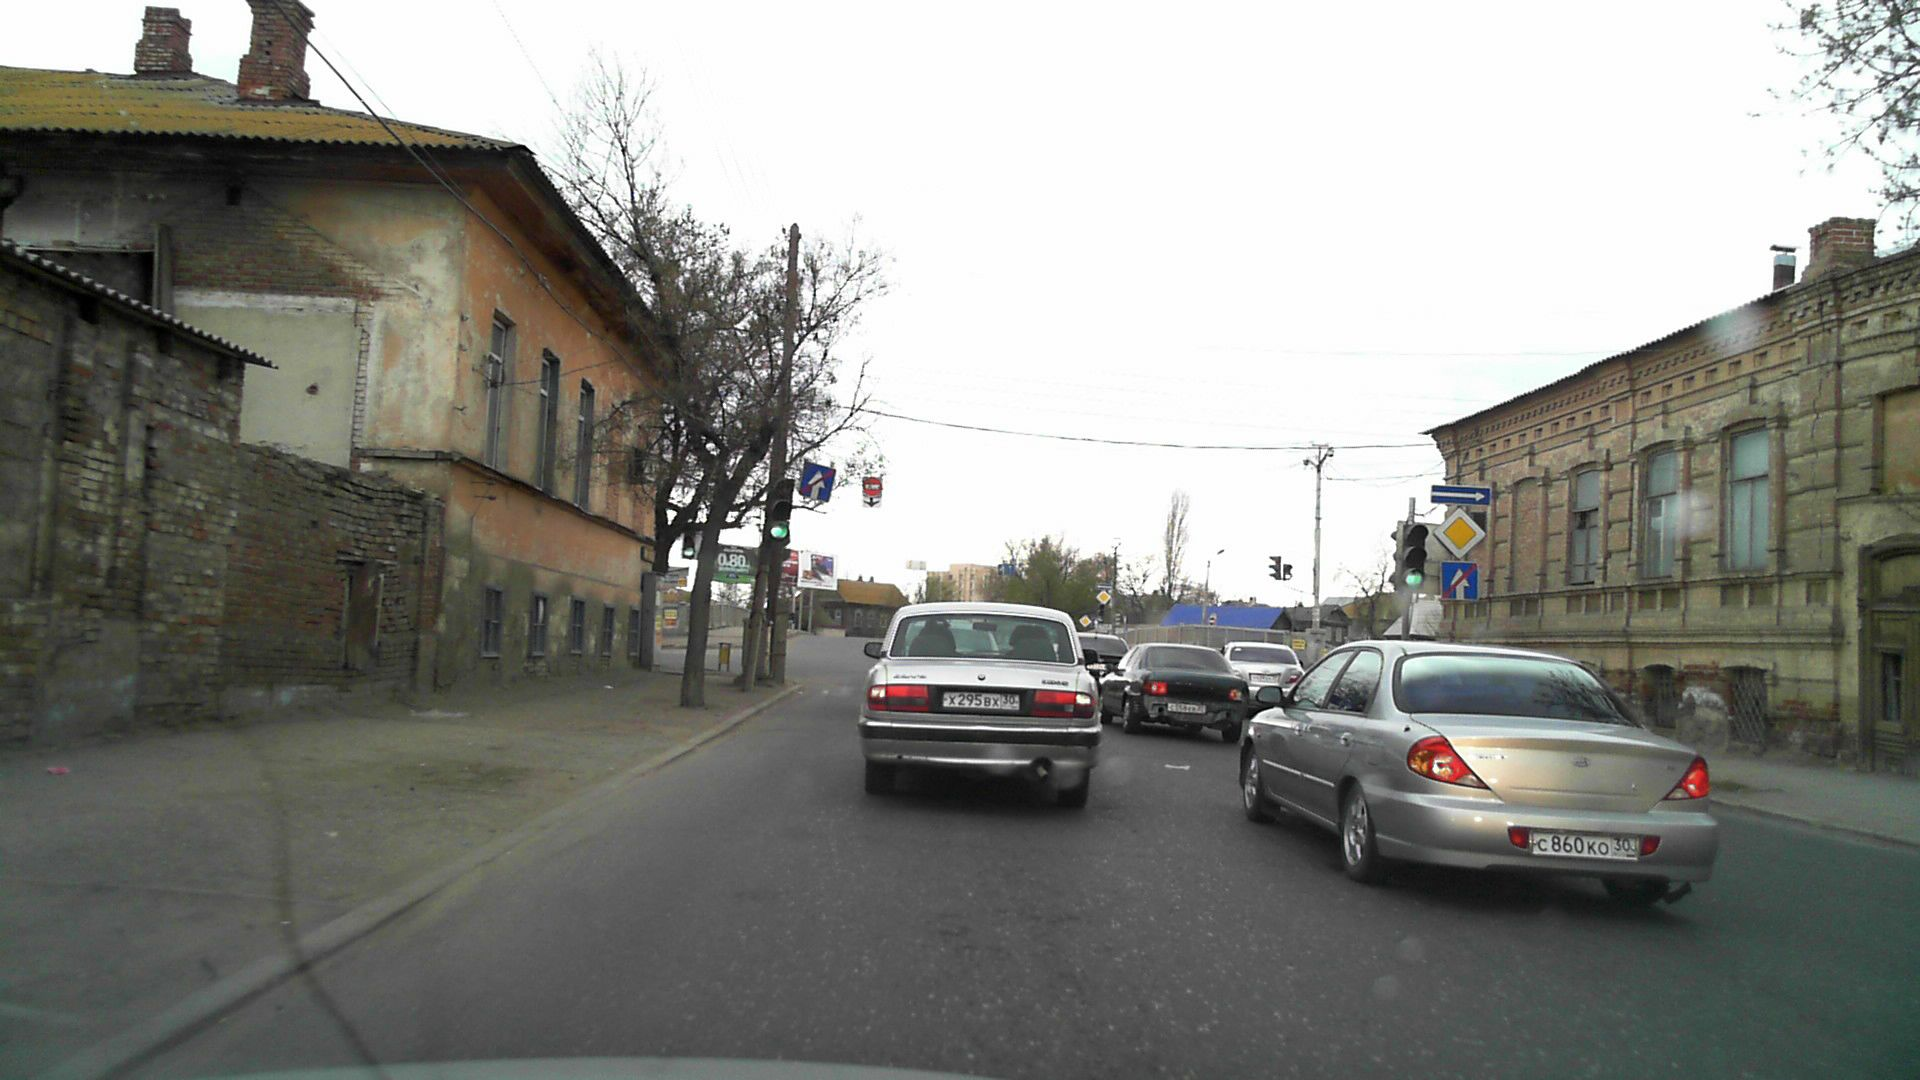One-Way Traffic: (1431, 485, 1491, 506)
